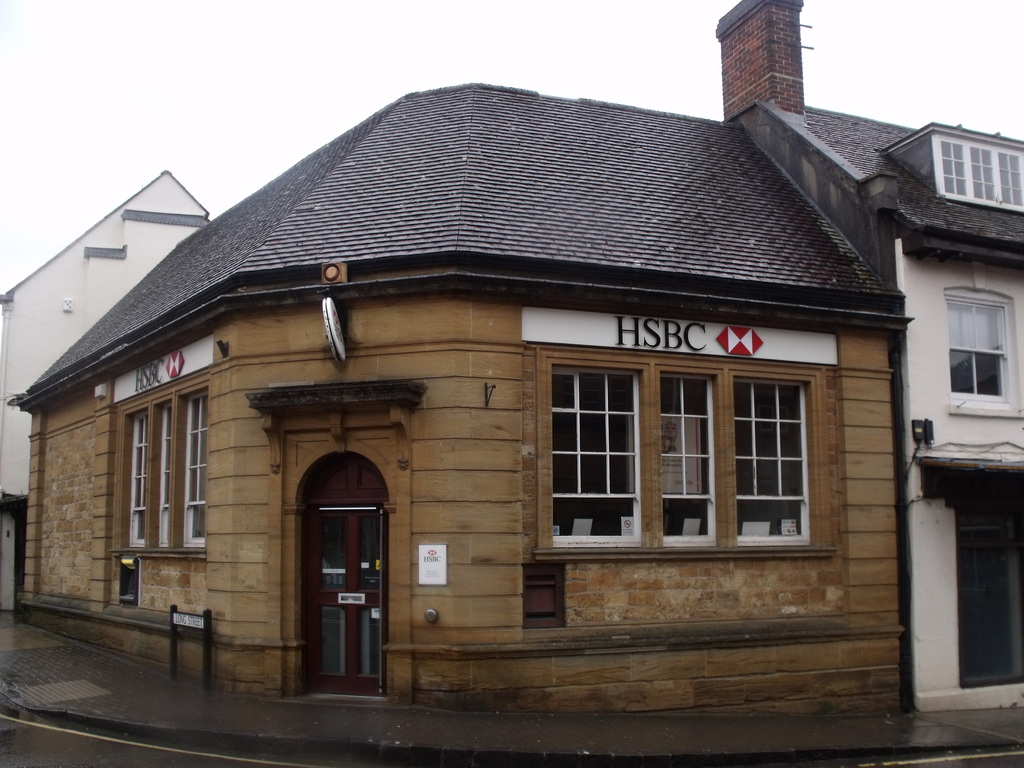door: (955, 502, 1024, 682), (315, 510, 382, 694)
